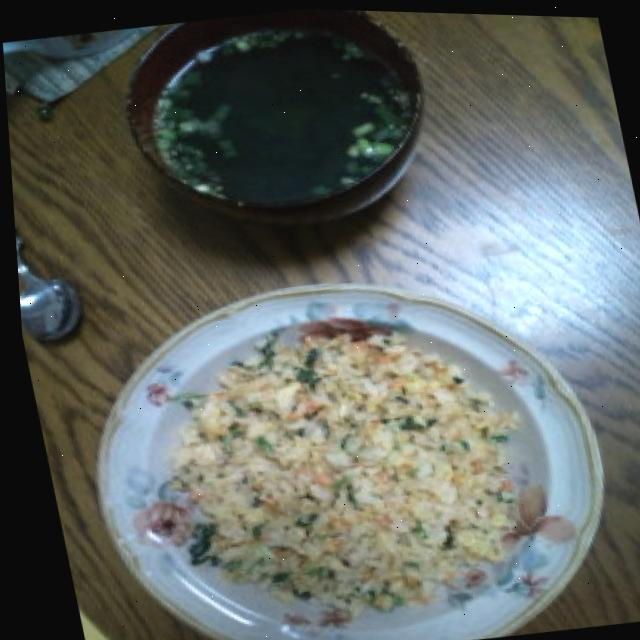汤锅炖物: (132, 4, 433, 218)
米饭主食: (70, 229, 639, 640)
